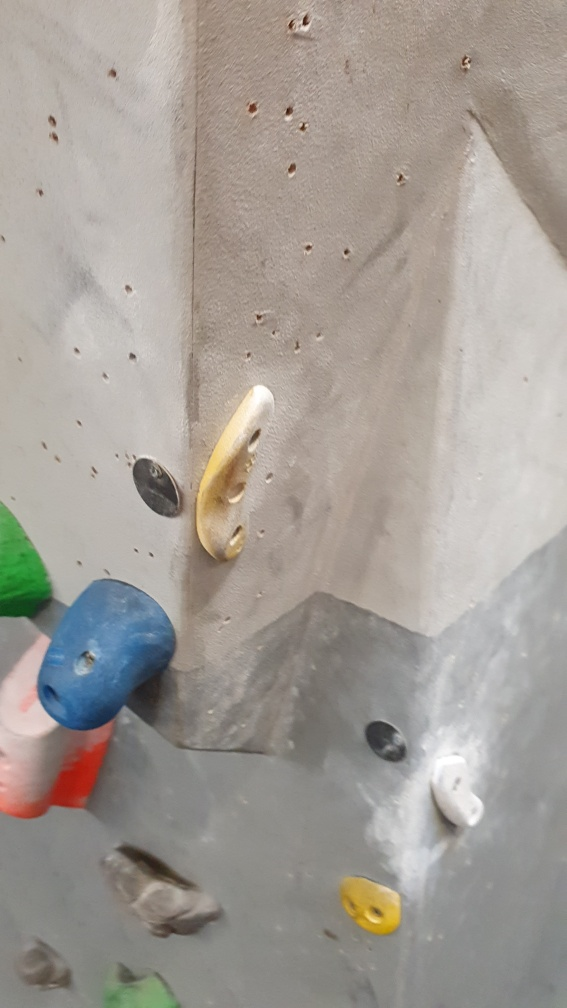Hand Start: (133, 453, 187, 529), (361, 716, 413, 767)
Jug: (97, 827, 230, 939), (92, 955, 184, 1007)
Pinch: (1, 630, 125, 821)
